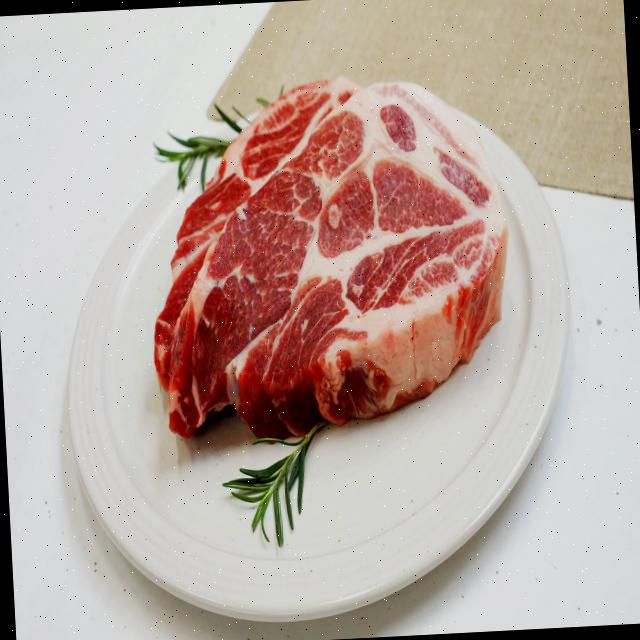meat: (135, 55, 530, 452)
